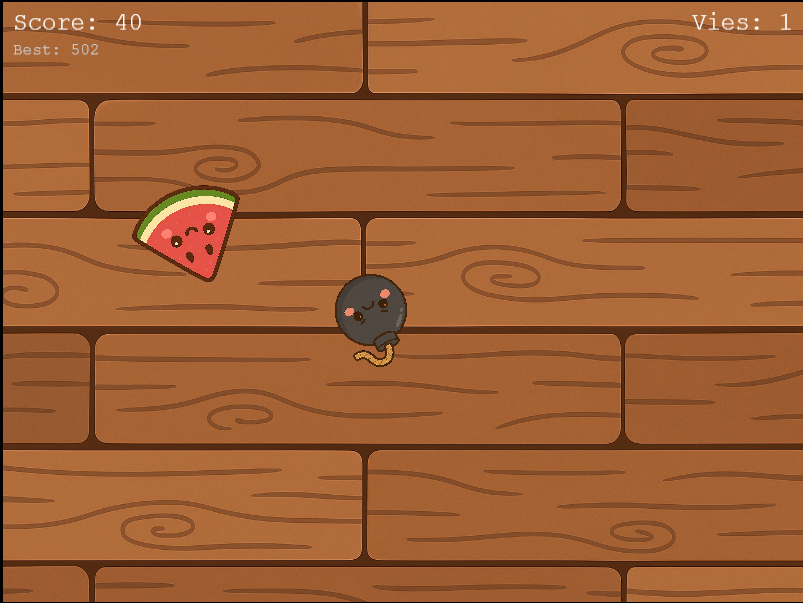bomb: (327, 272, 416, 367)
fruit: (129, 180, 244, 286)
